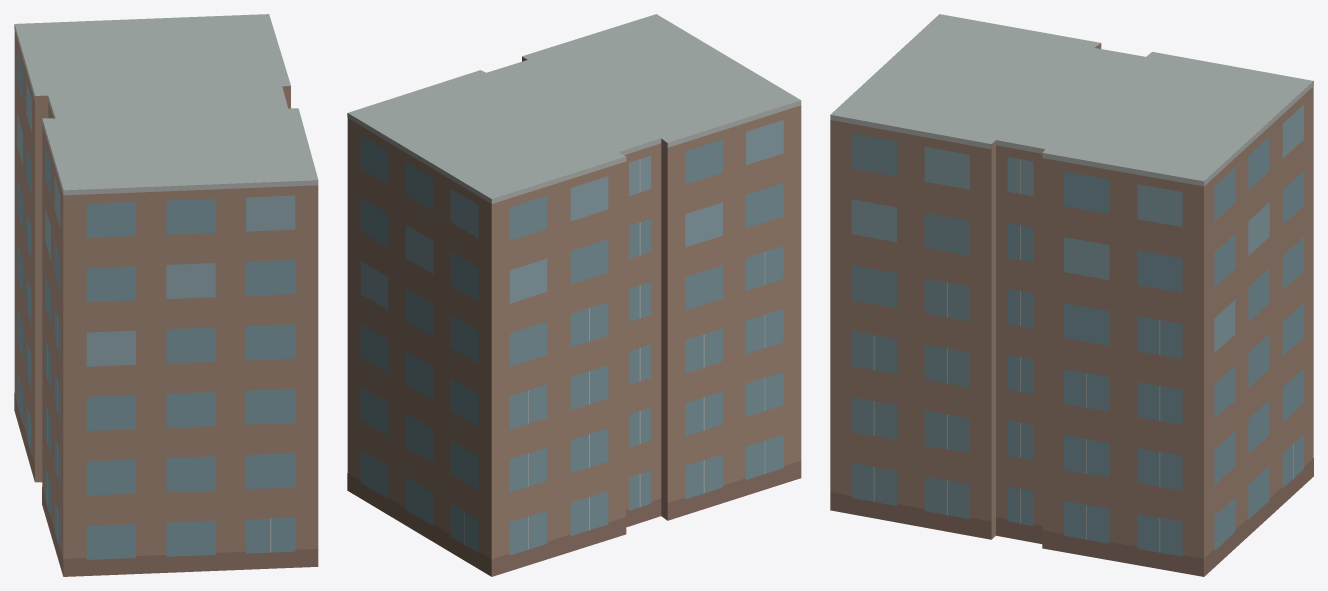
Rendered from survey-upis-32932728.glb.
The picture shows the model from 3 angles, left to right: view 1: azimuth 30°, elevation 25°; view 2: azimuth 150°, elevation 25°; view 3: azimuth 270°, elevation 25°; orthographic projection. The views are drawn at different scales.
Parts seen in each view (by area): view 1: survey-upis-32932728.tmp; view 2: survey-upis-32932728.tmp; view 3: survey-upis-32932728.tmp.
Part boxes in pixels (box(x1,y1,x2,y2)): survey-upis-32932728.tmp: box(14, 14, 318, 576); survey-upis-32932728.tmp: box(347, 14, 801, 576); survey-upis-32932728.tmp: box(830, 14, 1313, 576).
Size of the model in its own units: 16.97 by 18.7 by 20.72.
